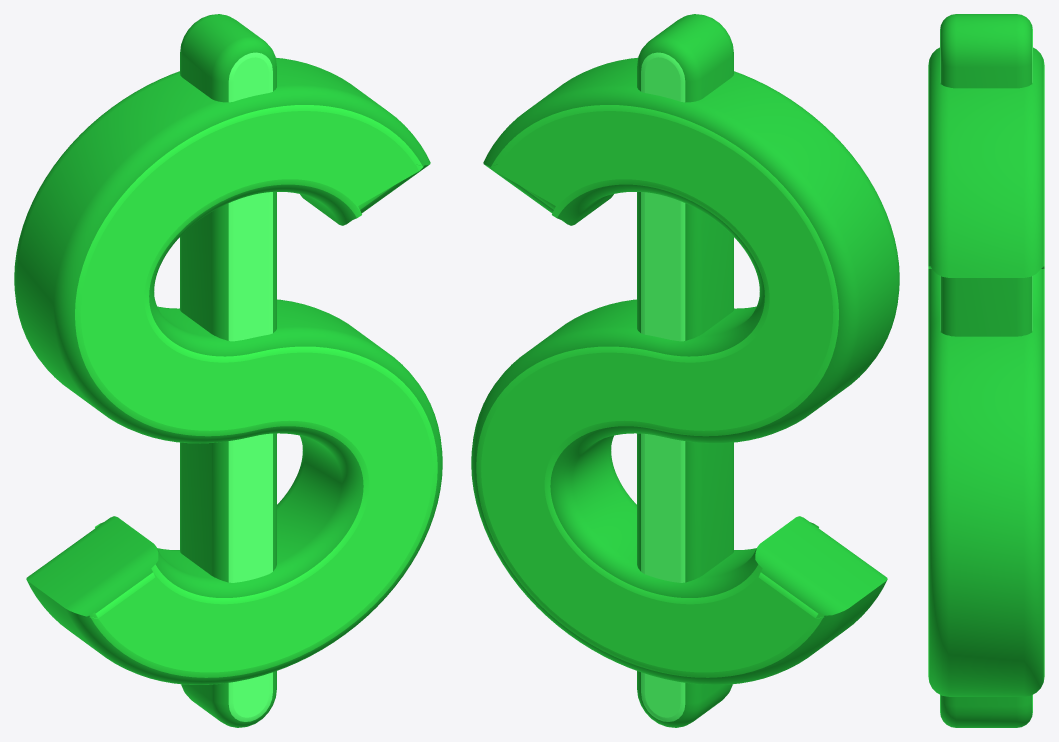
Rendered from dollar-sign.glb.
3 views of the same model, side by side, from view 1: azimuth 30°, elevation 25°; view 2: azimuth 150°, elevation 25°; view 3: azimuth 270°, elevation 25° (orthographic). The views are drawn at different scales.
Parts seen in each view (by area): view 1: DollarSign; view 2: DollarSign; view 3: DollarSign.
Part boxes in pixels (box(x1,y1,x2,y2)): DollarSign: box(14, 14, 442, 727); DollarSign: box(471, 14, 899, 727); DollarSign: box(928, 14, 1044, 727).
Size of the model in its own units: 0.67 by 1.14 by 0.17.
